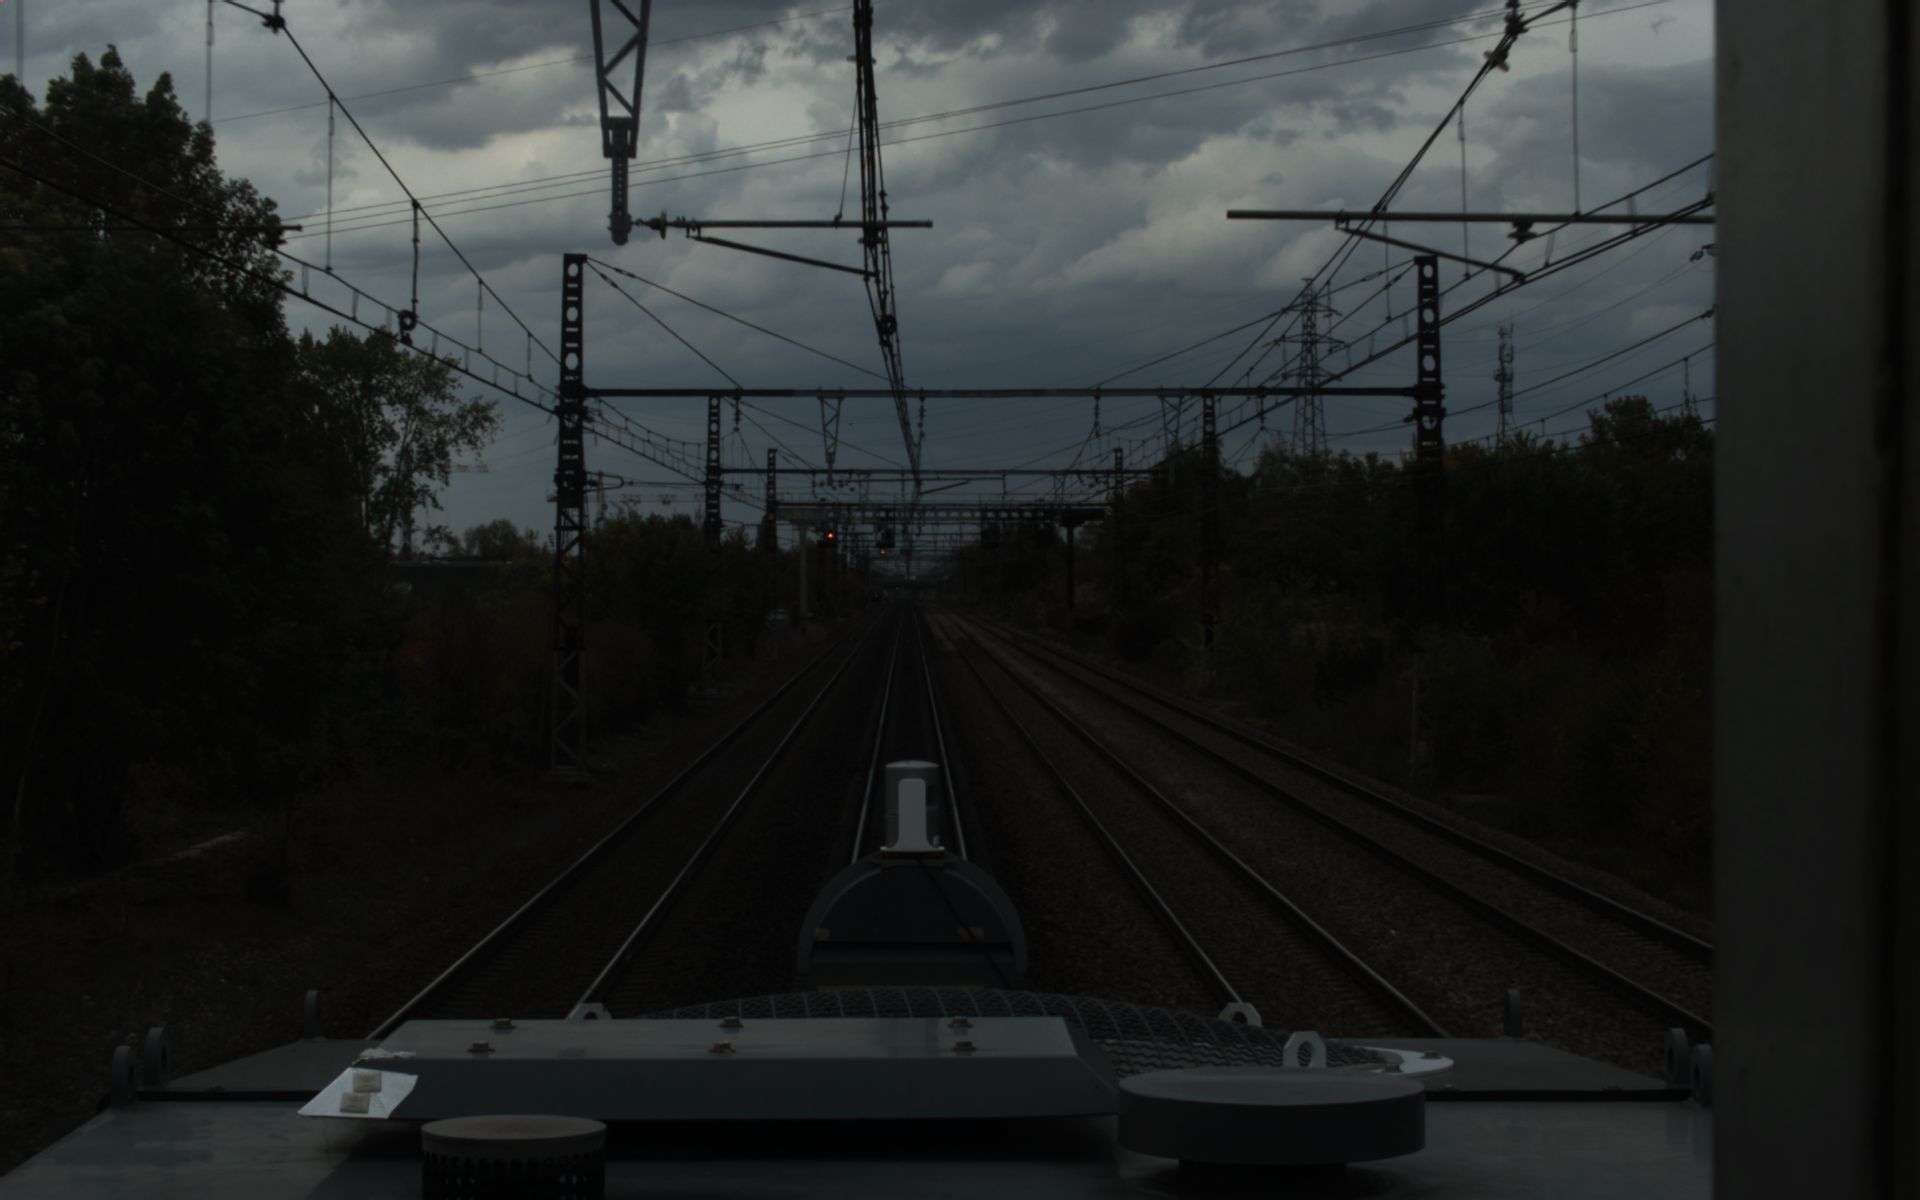Blinking: (881, 524, 896, 543)
Fixed: (822, 525, 838, 545)
